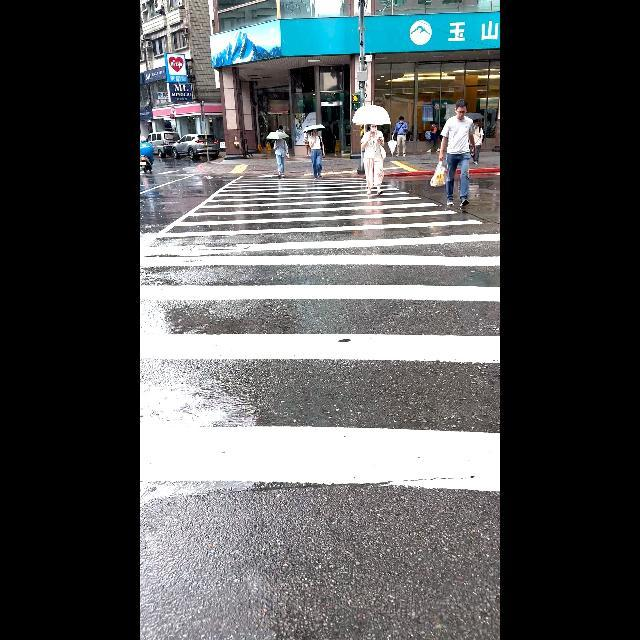sidewalk: (140, 177, 500, 492)
